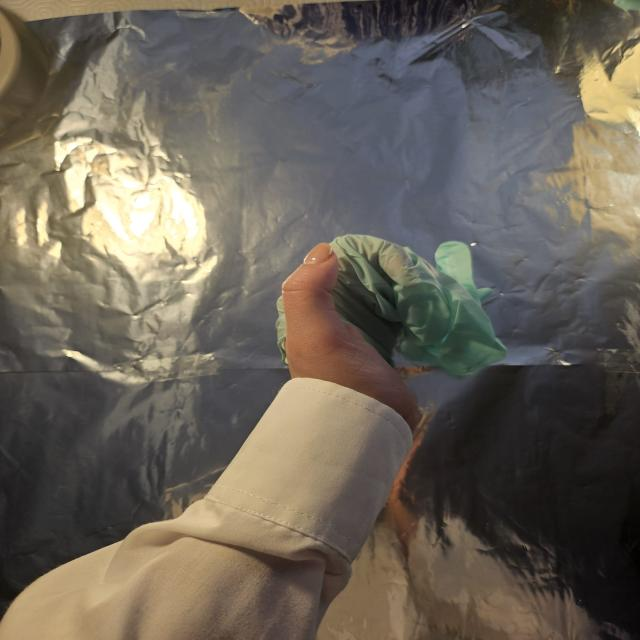glove_partial: (274, 233, 512, 428)
